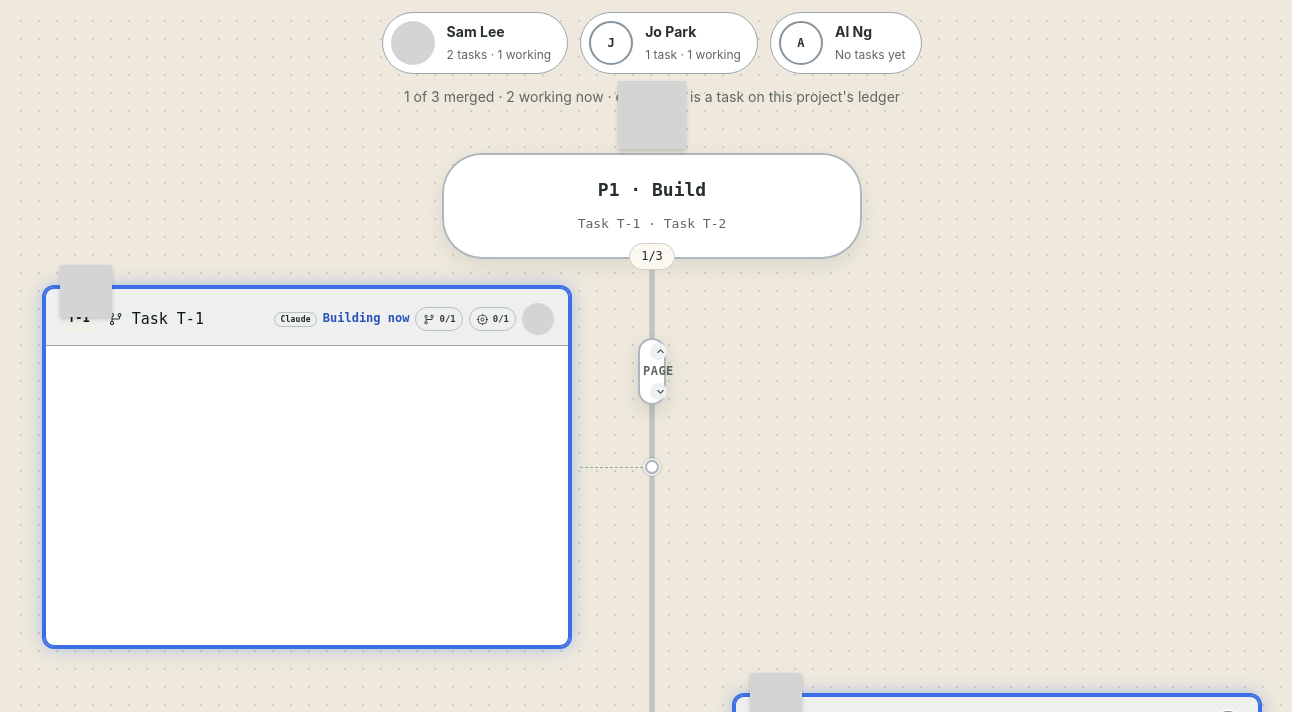
a person's own spine › a person with no tasks has a head and an honest empty line, no spine
The width and height of the screenshot is (1292, 712).
Click the button with aria-label "Open Al Ng's spine".
click(846, 43)  # box [770,12,922,74]
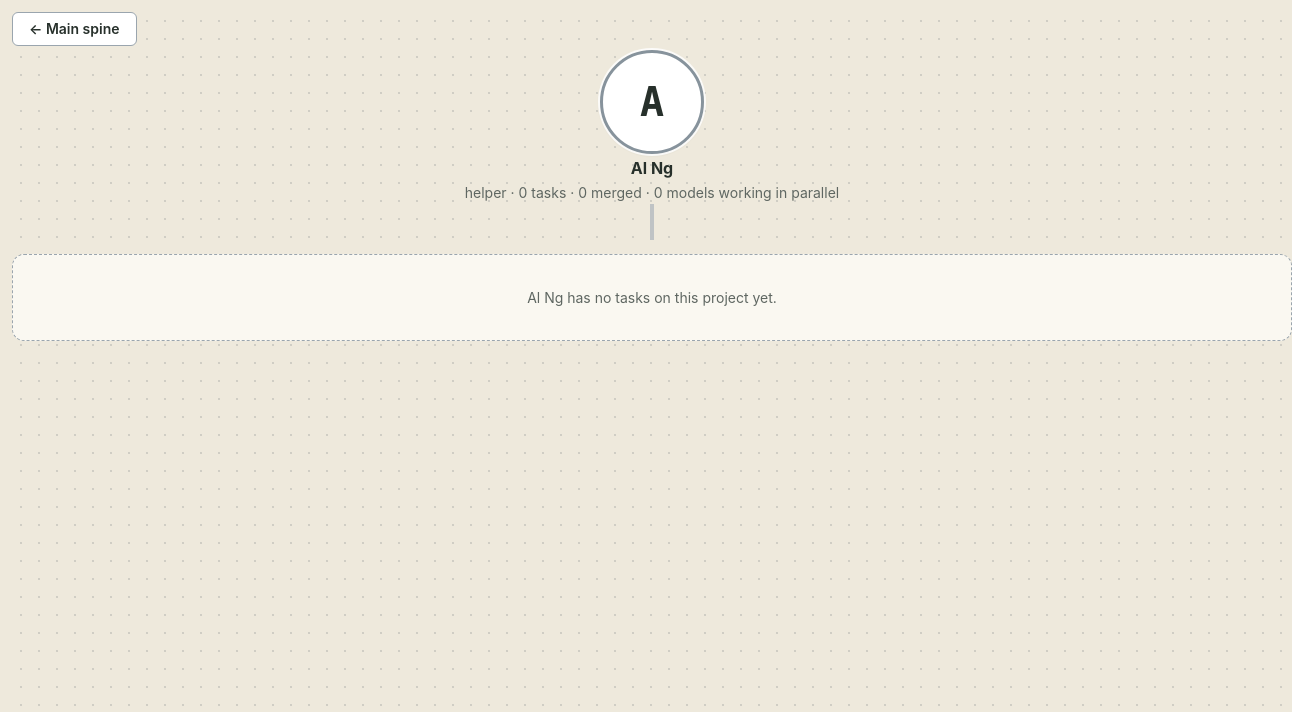
Now the text "Al Ng has no tasks on this project yet." is shown, box [12,254,1291,341]
